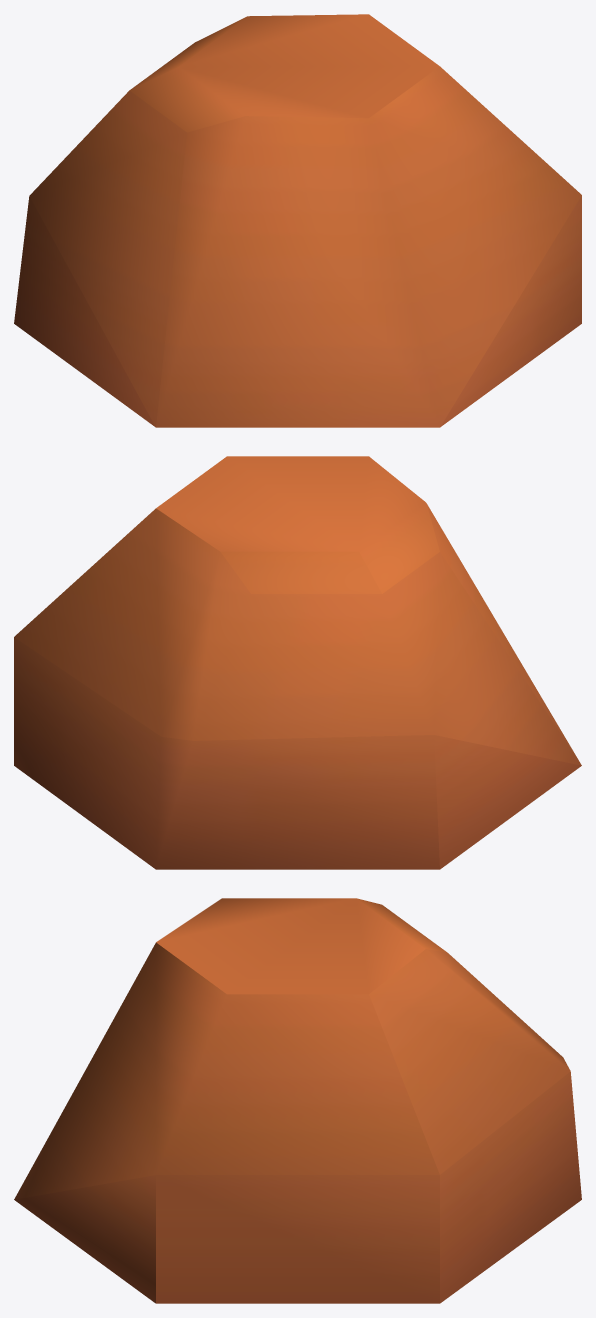
The model's file is kaykit-space-base-bits-rock-b.glb.
The picture shows the model from 3 angles, top to bottom: view 1: azimuth 30°, elevation 25°; view 2: azimuth 150°, elevation 25°; view 3: azimuth 270°, elevation 25°; orthographic projection.
Parts seen in each view (by area): view 1: rock_B; view 2: rock_B; view 3: rock_B.
Boxes of the visible parts, x1,y1,x2,y2 form: rock_B: (14, 14, 581, 427); rock_B: (14, 456, 581, 869); rock_B: (14, 898, 581, 1303).
Size of the model in its own units: 0.6953 by 0.4015 by 0.8028.
Materials: 1 (1 with a texture image).
